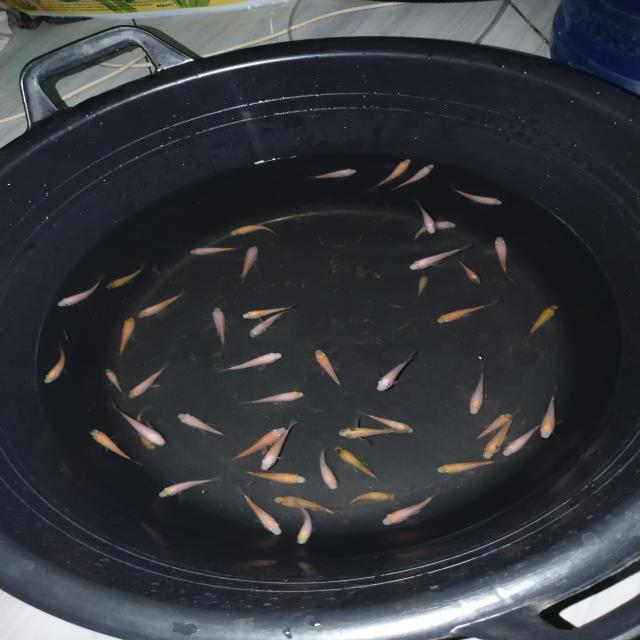nila: (378, 488, 444, 530), (477, 410, 528, 462), (256, 418, 306, 471), (332, 444, 394, 486), (238, 484, 284, 540), (114, 403, 169, 447), (90, 428, 146, 469), (410, 240, 478, 272), (228, 424, 284, 460), (372, 350, 416, 392), (54, 276, 104, 312), (274, 494, 352, 517), (432, 299, 500, 324), (501, 424, 546, 461), (156, 474, 220, 500), (177, 410, 232, 440), (250, 308, 297, 342), (366, 154, 408, 192), (126, 362, 168, 399), (310, 345, 343, 390), (468, 412, 514, 444), (217, 350, 283, 372), (136, 289, 186, 318), (433, 456, 502, 476), (134, 402, 160, 452), (450, 184, 508, 206), (391, 162, 436, 190), (528, 302, 558, 344), (242, 468, 312, 486), (238, 388, 308, 406), (366, 410, 418, 434), (332, 427, 418, 441), (114, 314, 142, 356), (465, 365, 488, 416), (412, 218, 458, 243), (294, 496, 316, 548), (240, 302, 302, 320), (344, 489, 402, 508), (316, 448, 339, 494), (540, 388, 560, 440), (105, 264, 148, 288), (411, 200, 438, 237), (307, 165, 364, 182), (492, 234, 512, 282), (44, 346, 68, 386), (239, 244, 263, 284), (456, 253, 484, 286), (208, 306, 230, 348), (227, 224, 290, 238), (414, 272, 432, 304), (104, 367, 124, 395), (186, 246, 240, 256)
